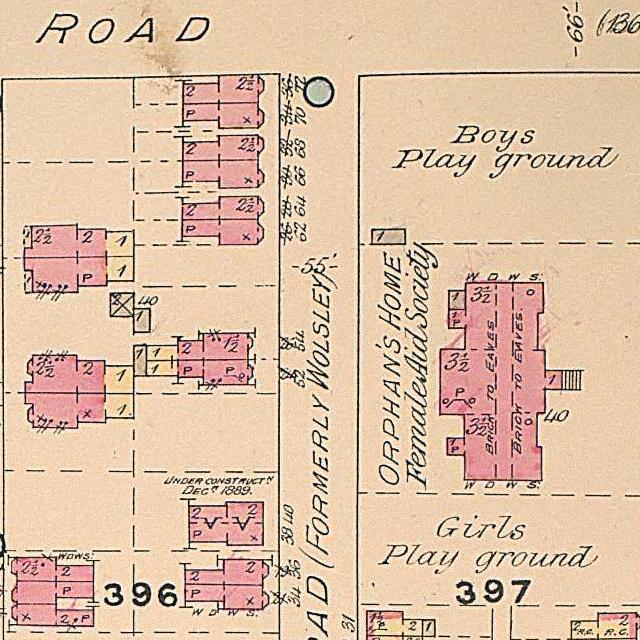building-footprints: (440, 283, 562, 481), (25, 355, 134, 394), (24, 256, 134, 292), (25, 392, 134, 428), (24, 225, 134, 258), (189, 502, 263, 545), (146, 333, 253, 361), (146, 360, 253, 385), (182, 74, 264, 104), (183, 160, 264, 188), (185, 584, 269, 610), (185, 559, 269, 585), (183, 135, 264, 161), (11, 557, 94, 582), (182, 220, 263, 245), (183, 103, 263, 128), (12, 581, 94, 605), (182, 196, 264, 220), (12, 604, 94, 626), (571, 613, 640, 639), (367, 611, 423, 636), (110, 293, 134, 317), (372, 230, 405, 244), (134, 308, 150, 332), (134, 346, 146, 376), (449, 291, 466, 310), (367, 636, 423, 640), (422, 620, 435, 637)
